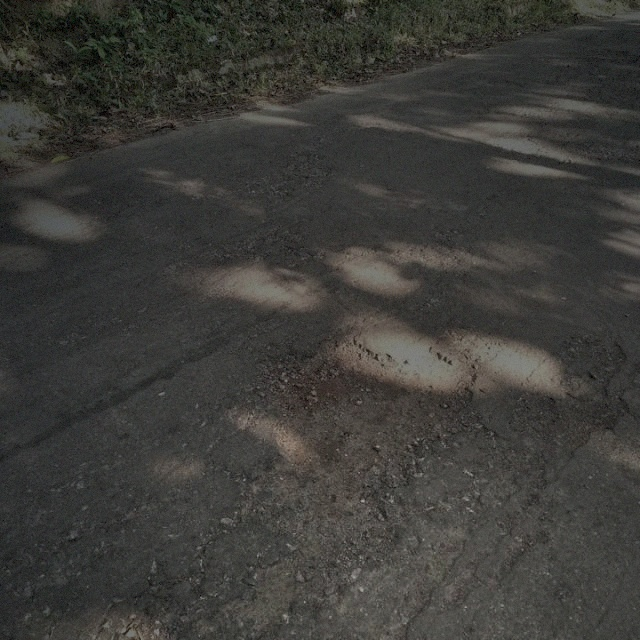pothole: (246, 331, 475, 567)
